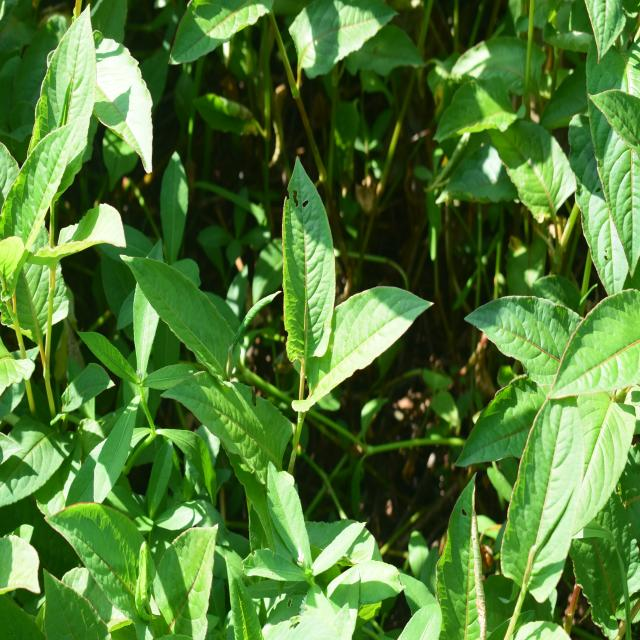Chinese_knotweed: (236, 187, 404, 469)
